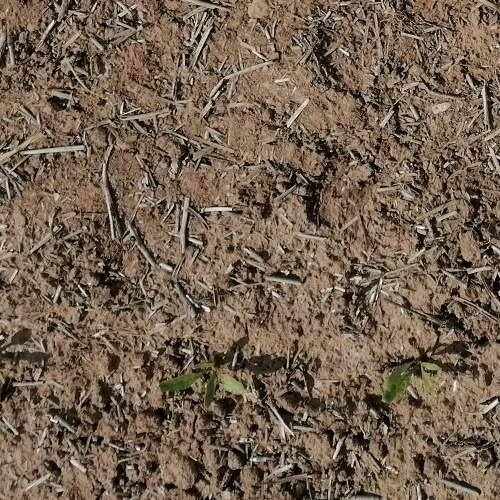beet: (155, 356, 244, 409), (378, 356, 442, 404)
